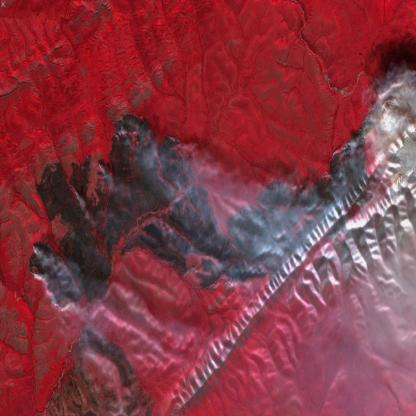fire: (24, 101, 390, 319)
